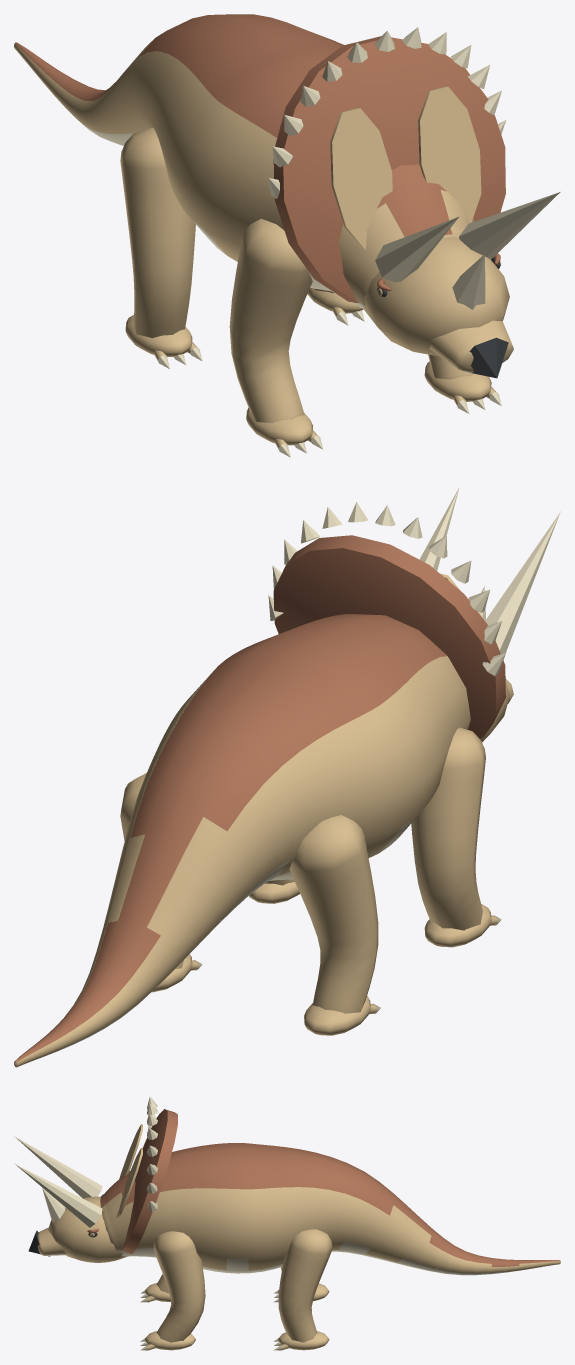
The model's file is primeval-frontier-triceratops-a3043037__1713.glb.
3 views of the same model, one above another, from view 1: azimuth 30°, elevation 25°; view 2: azimuth 150°, elevation 25°; view 3: azimuth 270°, elevation 25° (orthographic). The views are drawn at different scales.
Visible parts, largest first — view 1: triceratops; view 2: triceratops; view 3: triceratops.
Part boxes in pixels (x1,y1,x2,y2): triceratops: (14, 14, 560, 457); triceratops: (14, 487, 560, 1067); triceratops: (14, 1097, 560, 1350).
Bounding box in the file's own units: 1.8 × 2.87 × 6.44.
